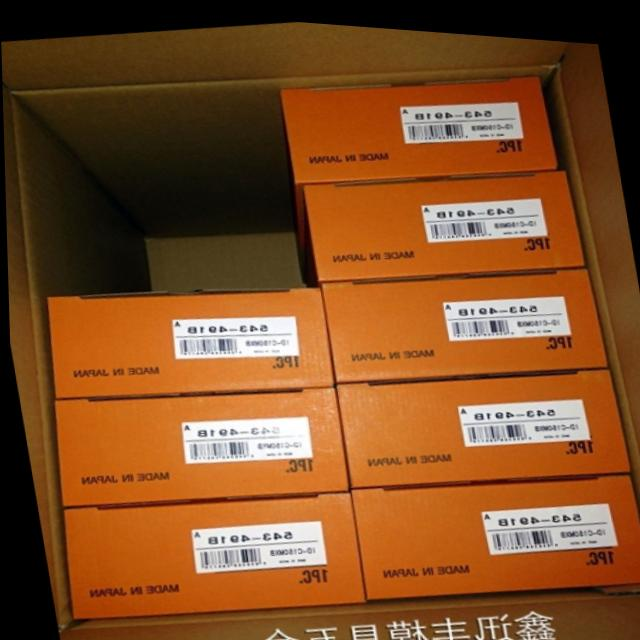box: (58, 484, 363, 616), (350, 467, 640, 595), (50, 381, 345, 506), (43, 282, 335, 401), (334, 362, 629, 479), (322, 260, 608, 379), (301, 160, 584, 277), (278, 68, 555, 179), (146, 227, 302, 292)
